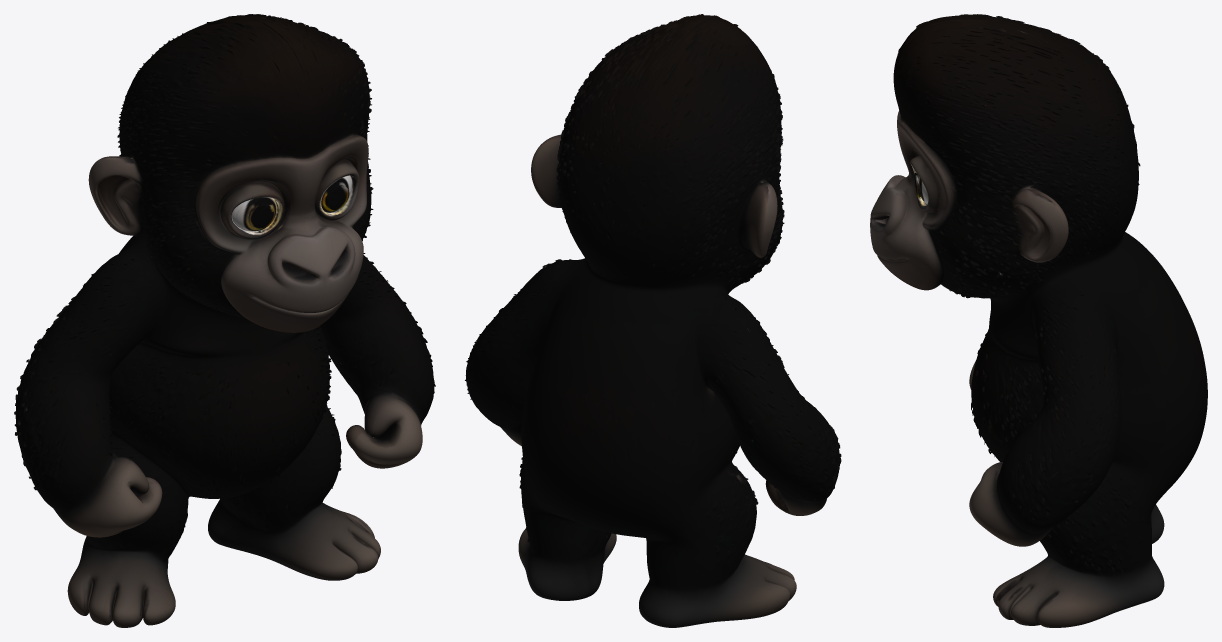
File: runner.gltf
3 views of the same model, side by side, from view 1: azimuth 30°, elevation 25°; view 2: azimuth 150°, elevation 25°; view 3: azimuth 270°, elevation 25° (orthographic). The views are drawn at different scales.
Parts seen in each view (by area): view 1: texture_pbr_v128; view 2: texture_pbr_v128; view 3: texture_pbr_v128.
Boxes of the visible parts, x1,y1,x2,y2 form: texture_pbr_v128: (14,14,435,627); texture_pbr_v128: (465,14,841,627); texture_pbr_v128: (870,14,1207,627).
Size of the model in its own units: 0.7633 by 1.08 by 0.6013.
1 material, 1 textured.
